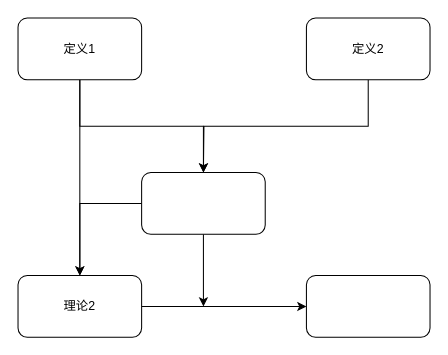
Image size: 448x355. Some labels were removed from this diagram. Here are the shapes that lost their labels. From the top down, the centre of each, then its label:
At (203,202): "理论1".
At (367,305): "理论3".
